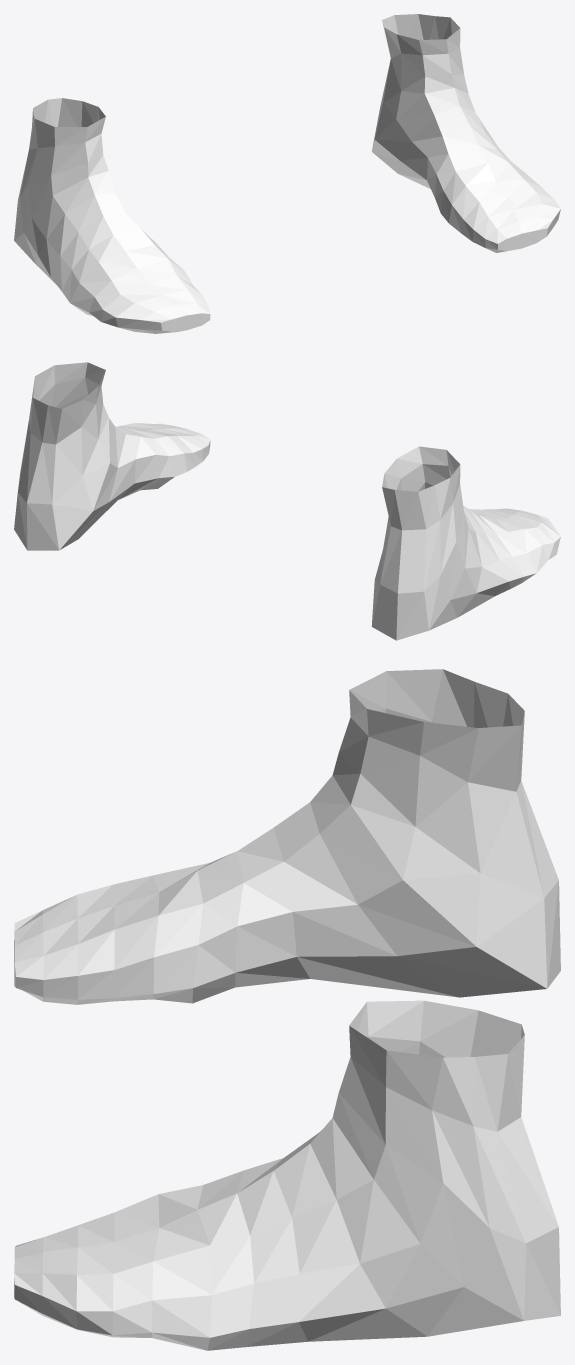
The model's file is mhw_joepal_crude_low_socks.glb.
3 views of the same model, one above another, from view 1: azimuth 30°, elevation 25°; view 2: azimuth 150°, elevation 25°; view 3: azimuth 270°, elevation 25° (orthographic). The views are drawn at different scales.
Parts seen in each view (by area): view 1: mhw_joepal_crude_low_socks; view 2: mhw_joepal_crude_low_socks; view 3: mhw_joepal_crude_low_socks.
Part boxes in pixels (x1=…): mhw_joepal_crude_low_socks: x1=14, y1=14, x2=560, y2=333; mhw_joepal_crude_low_socks: x1=14, y1=362, x2=560, y2=640; mhw_joepal_crude_low_socks: x1=14, y1=669, x2=560, y2=1350.
Bounding box in the file's own units: 0.5489 × 0.1749 × 0.2908.
Materials: 1 (1 with a texture image).
